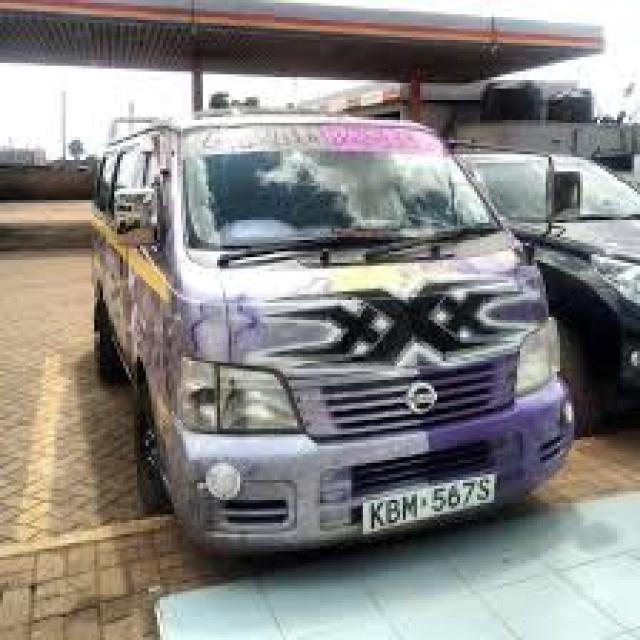matatu: (69, 76, 608, 580)
